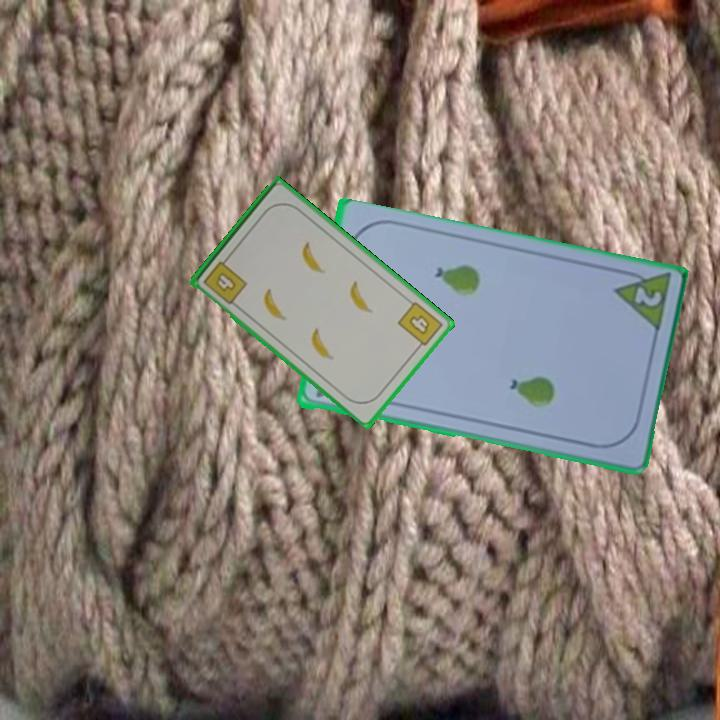2p: (630, 283, 665, 310)
4b: (394, 298, 446, 353), (199, 252, 250, 307)
